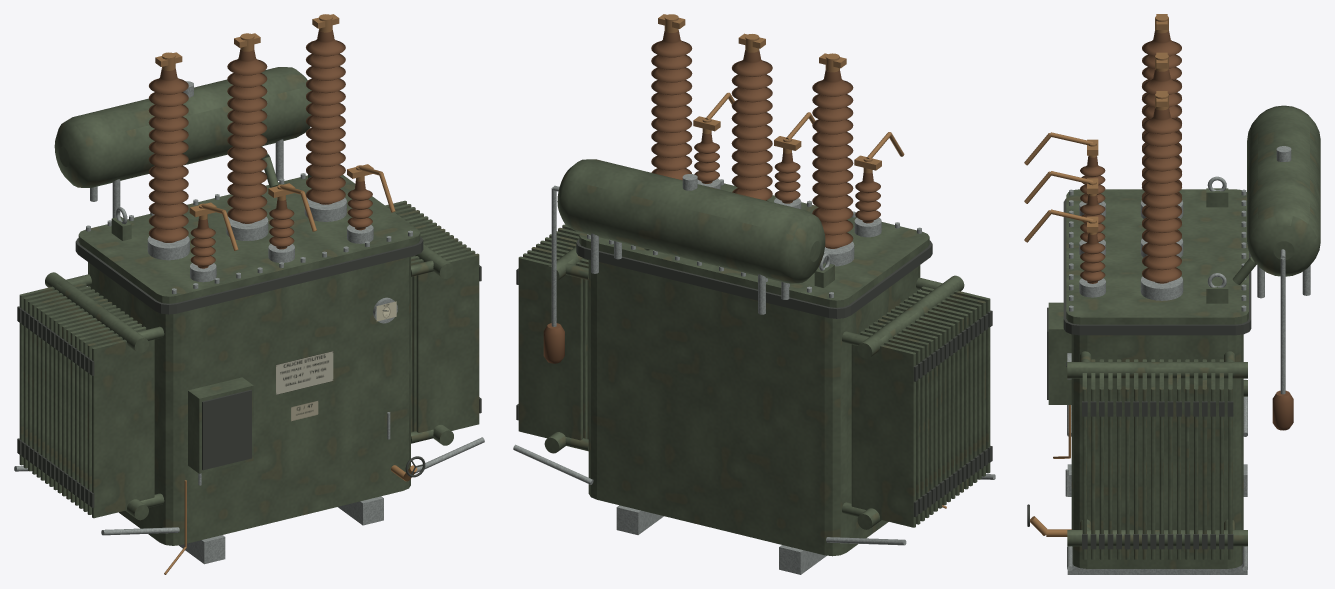
Rendered from SM_Substation_Transformer.fbx.
3 renders of one model, left to right at view 1: azimuth 30°, elevation 25°; view 2: azimuth 150°, elevation 25°; view 3: azimuth 270°, elevation 25°, orthographic. The views are drawn at different scales.
Visible parts, largest first — view 1: SM_Substation_Transformer; view 2: SM_Substation_Transformer; view 3: SM_Substation_Transformer.
Part boxes in pixels (bbox=[...]): SM_Substation_Transformer: bbox=[14, 14, 484, 574]; SM_Substation_Transformer: bbox=[513, 14, 995, 574]; SM_Substation_Transformer: bbox=[1024, 14, 1320, 574].
Size of the model in its own units: 5.16 by 3.38 by 5.97.
